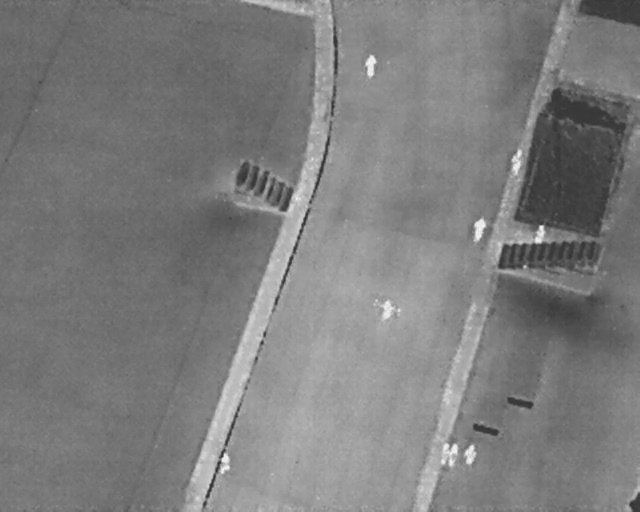Person: (470, 211, 488, 244), (508, 146, 525, 177), (461, 441, 478, 467), (445, 440, 460, 468), (363, 52, 377, 79), (381, 297, 395, 322), (218, 450, 231, 475), (534, 223, 545, 244), (440, 443, 451, 464)
